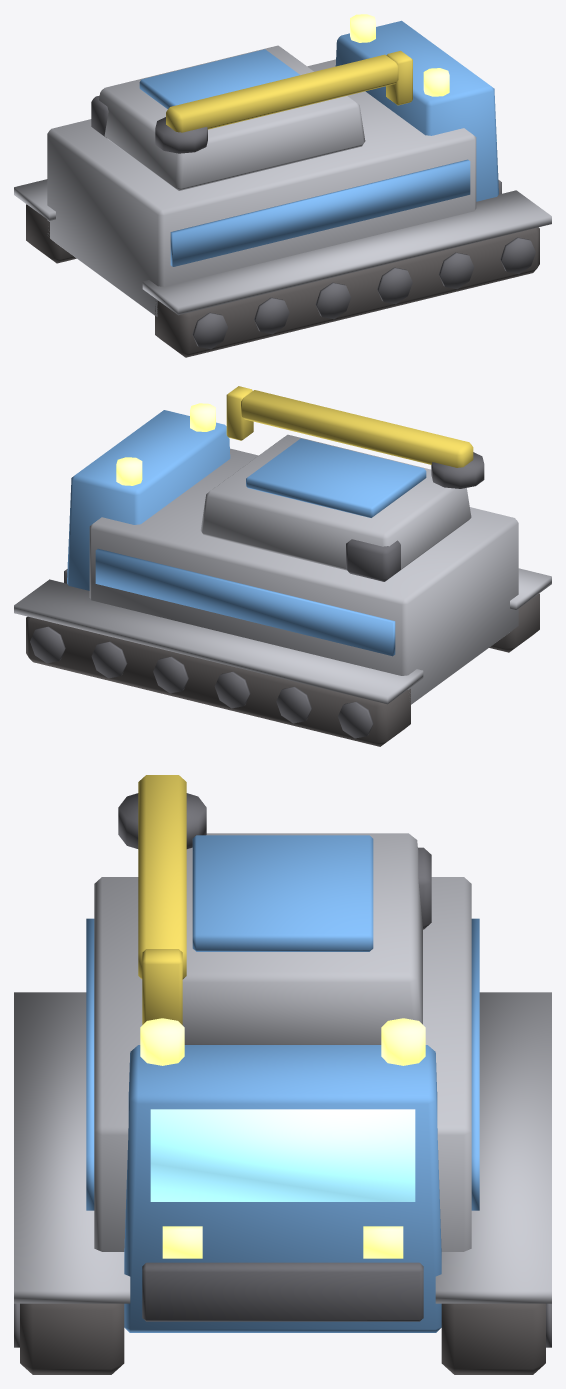
File: mcv.glb
The picture shows the model from 3 angles, top to bottom: view 1: azimuth 30°, elevation 25°; view 2: azimuth 150°, elevation 25°; view 3: azimuth 270°, elevation 25°; orthographic projection. The views are drawn at different scales.
Parts seen in each view (by area): view 1: body; view 2: body; view 3: body.
Boxes of the visible parts, x1=… form: body: x1=14, y1=14, x2=551, y2=357; body: x1=14, y1=386, x2=551, y2=746; body: x1=14, y1=775, x2=551, y2=1374.
Bounding box in the file's own units: 1.1 × 0.5938 × 0.8375.
